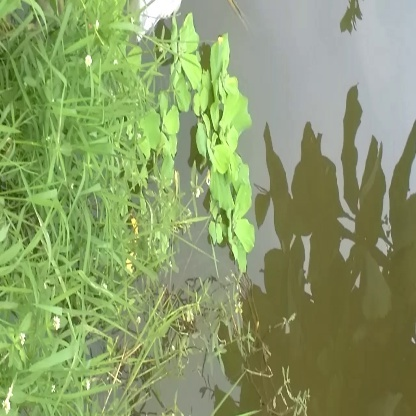leaf: (207, 165, 262, 268)
